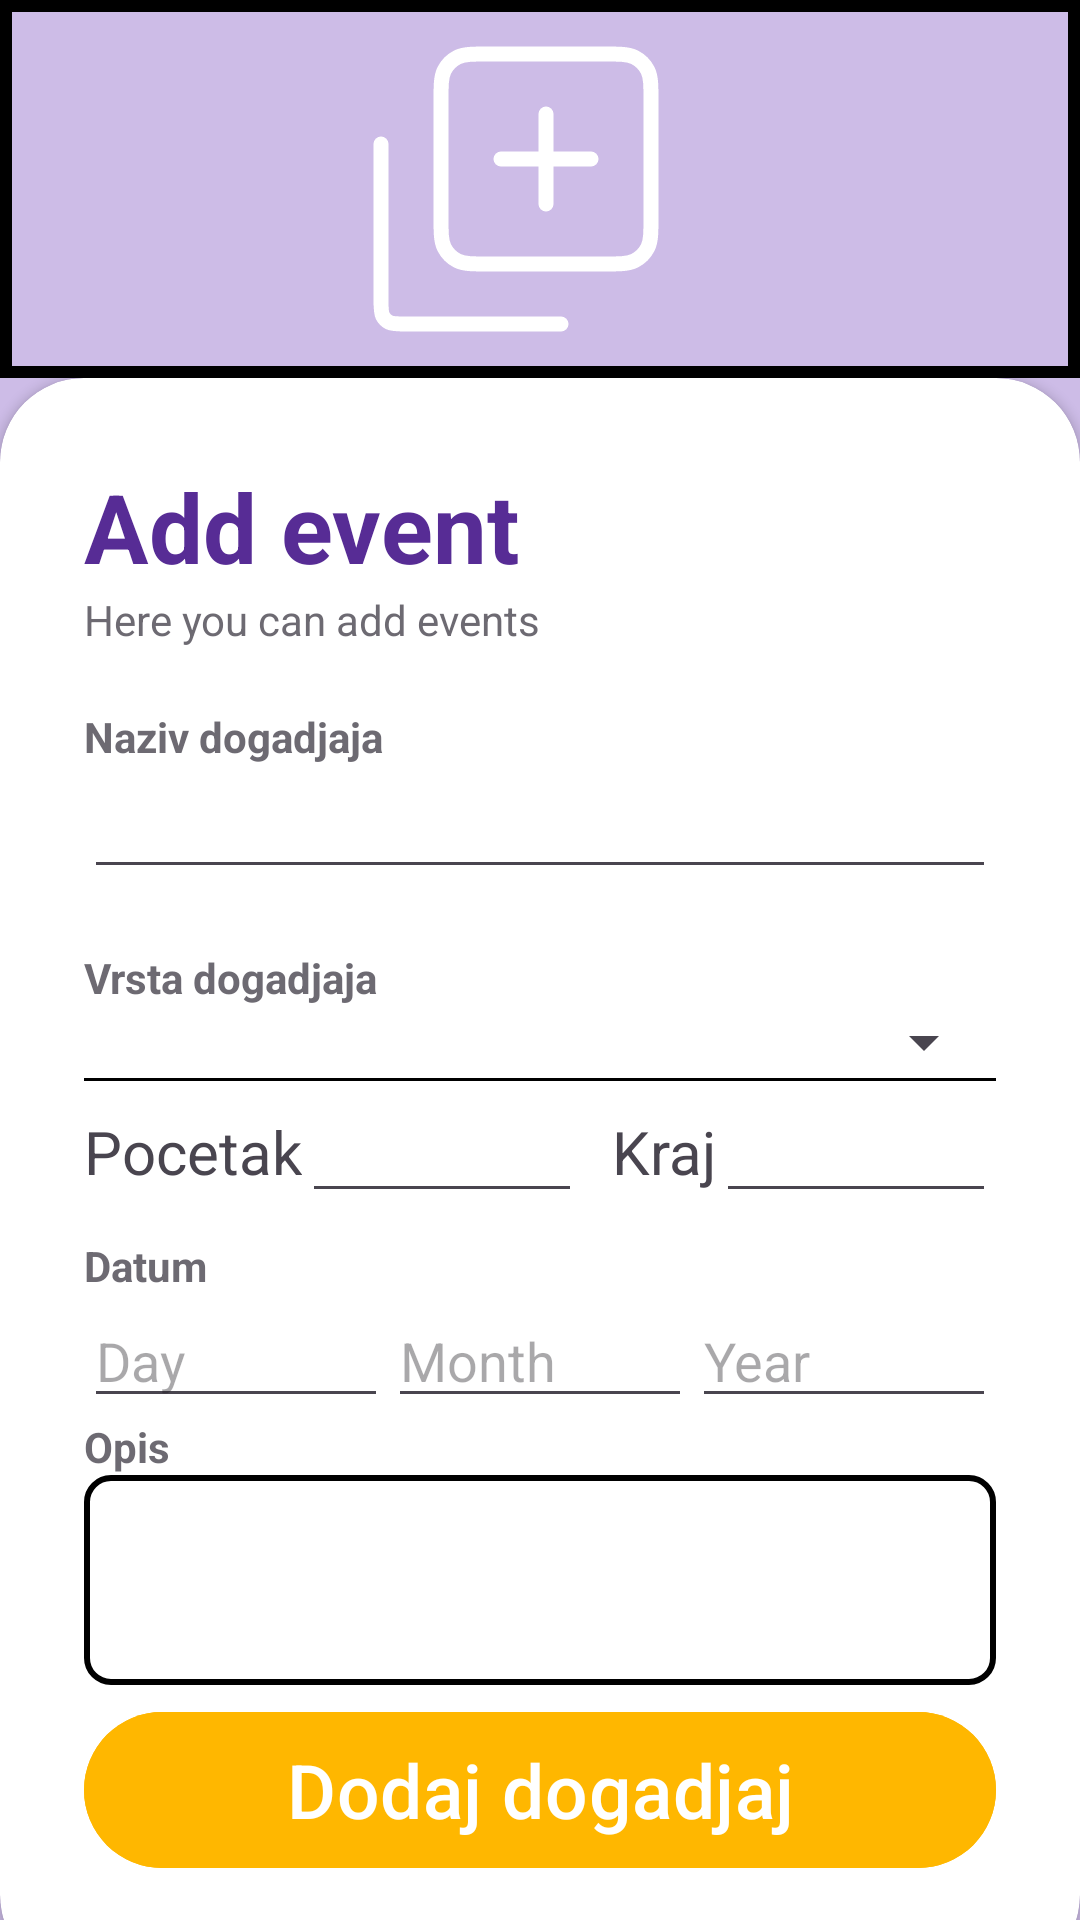

Named icons in this screenshot (1080px×1920px) and their centers, [x,y]:
plus za sliku: [516,189]
